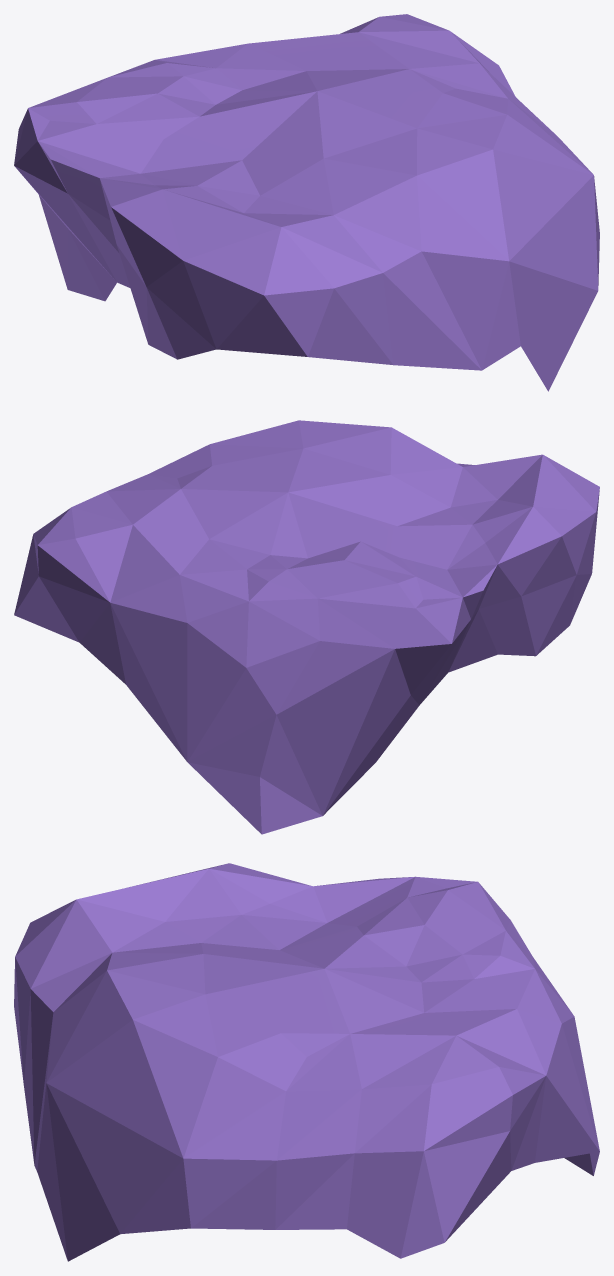
File: ground_015.fbx
The picture shows the model from 3 angles, top to bottom: view 1: azimuth 30°, elevation 25°; view 2: azimuth 150°, elevation 25°; view 3: azimuth 270°, elevation 25°; orthographic projection. The views are drawn at different scales.
Parts seen in each view (by area): view 1: ground.015; view 2: ground.015; view 3: ground.015.
Boxes of the visible parts, bbox=[...] form: ground.015: bbox=[14, 14, 599, 391]; ground.015: bbox=[14, 420, 599, 834]; ground.015: bbox=[14, 863, 599, 1261].
Size of the model in its own units: 2139 by 1033 by 2119.
1 material, 1 textured.
